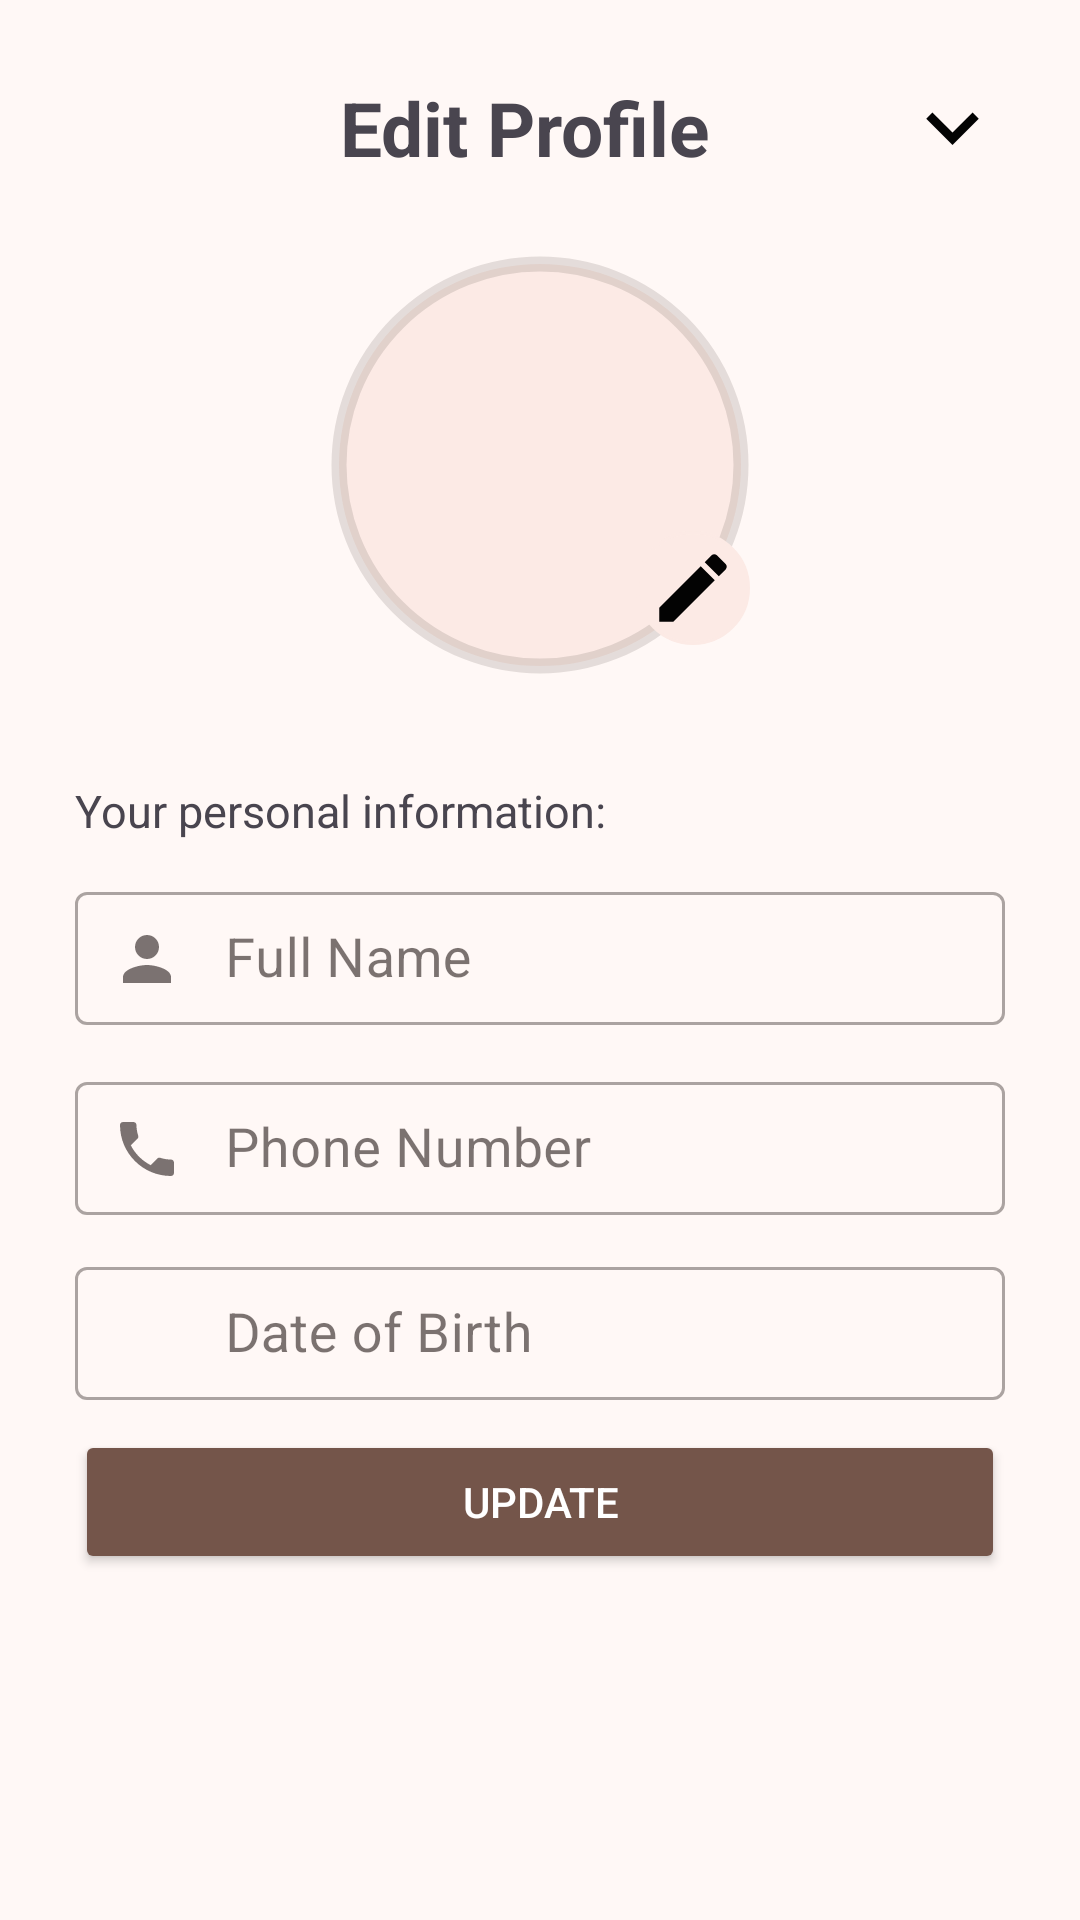

Screen size 1080 x 1920. Icon name, then its box in pixels as [x1=x1, y1=y1, x2=x2, y2=y2]:
down: [x1=926, y1=112, x2=979, y2=145]
edit: [x1=659, y1=554, x2=727, y2=622]
